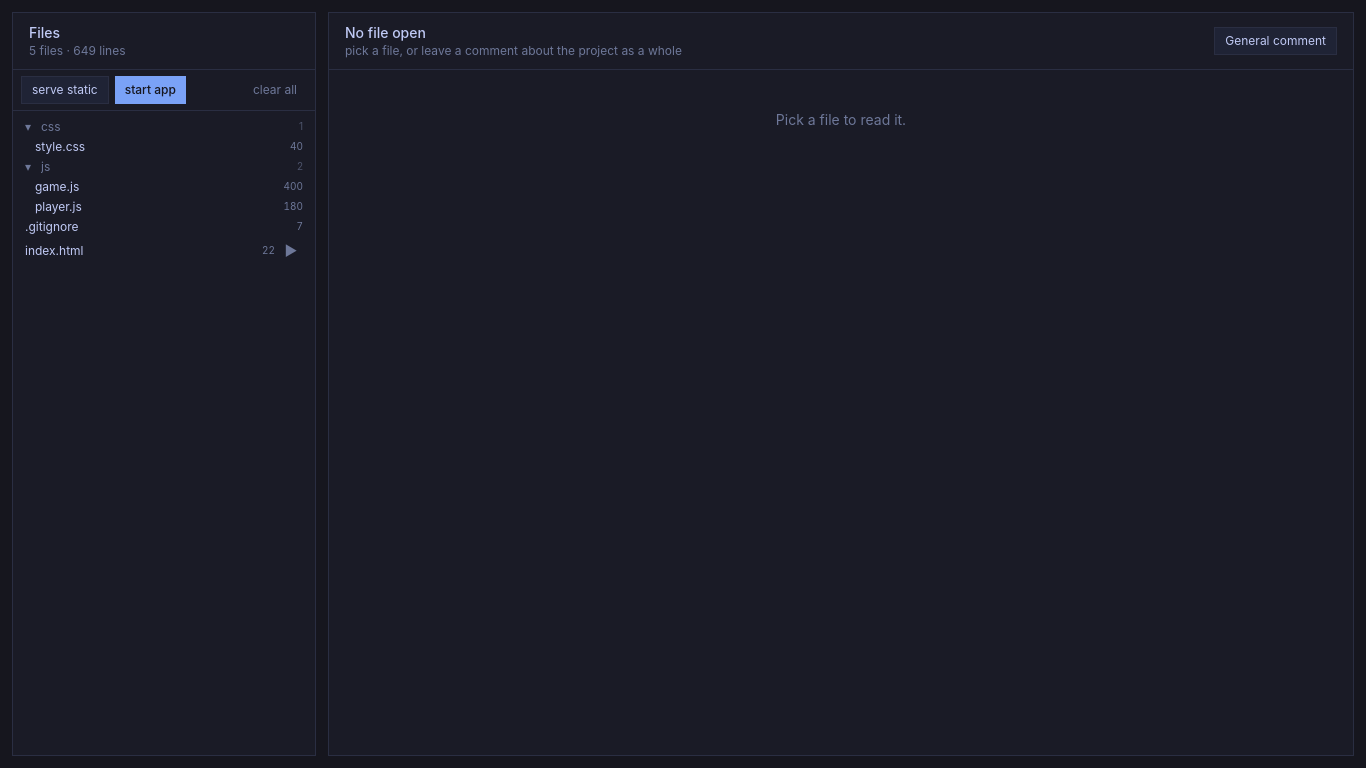
Test: the files screen › says a file could not be opened rather than showing an empty pane
Click the text "index.html": (54, 250) 25,243 -> 84,258
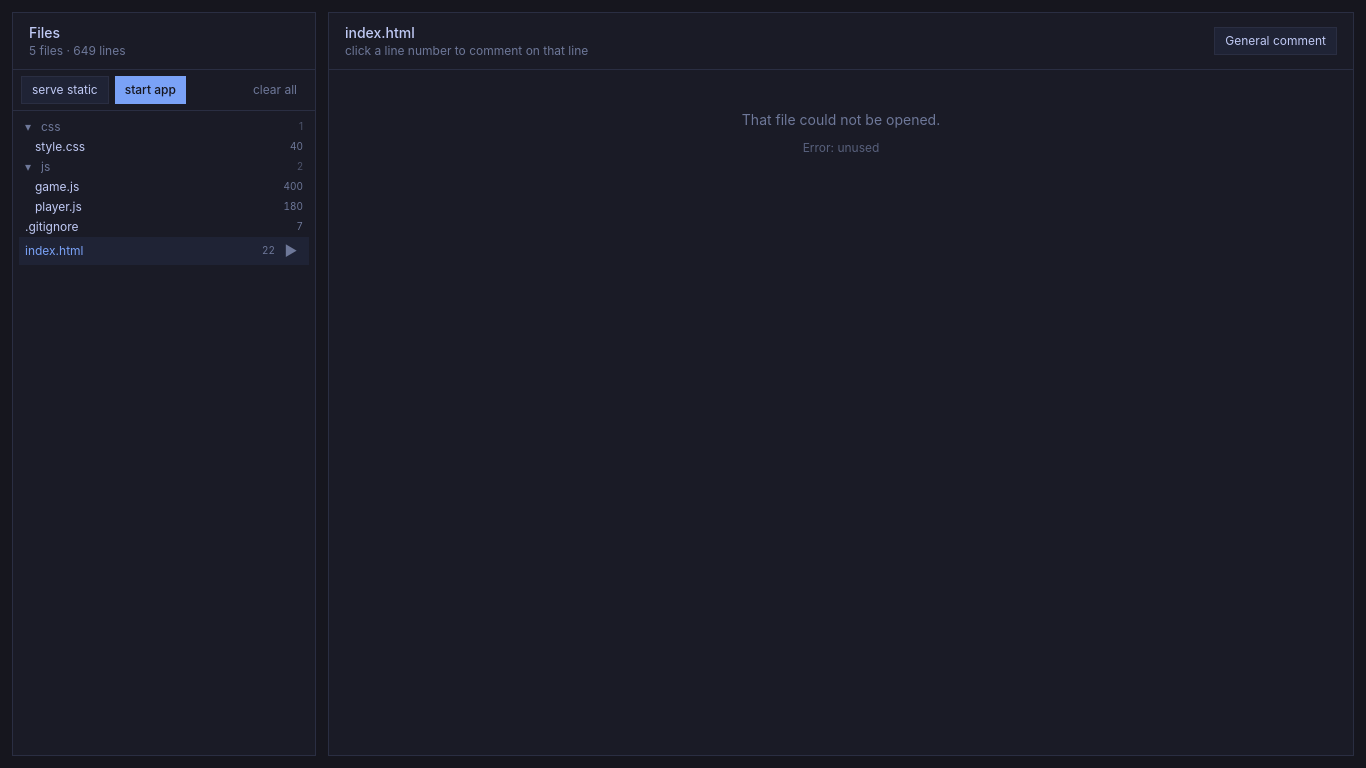
expect the text "That file could not be opened." is shown: met, box 742,110 -> 940,130
